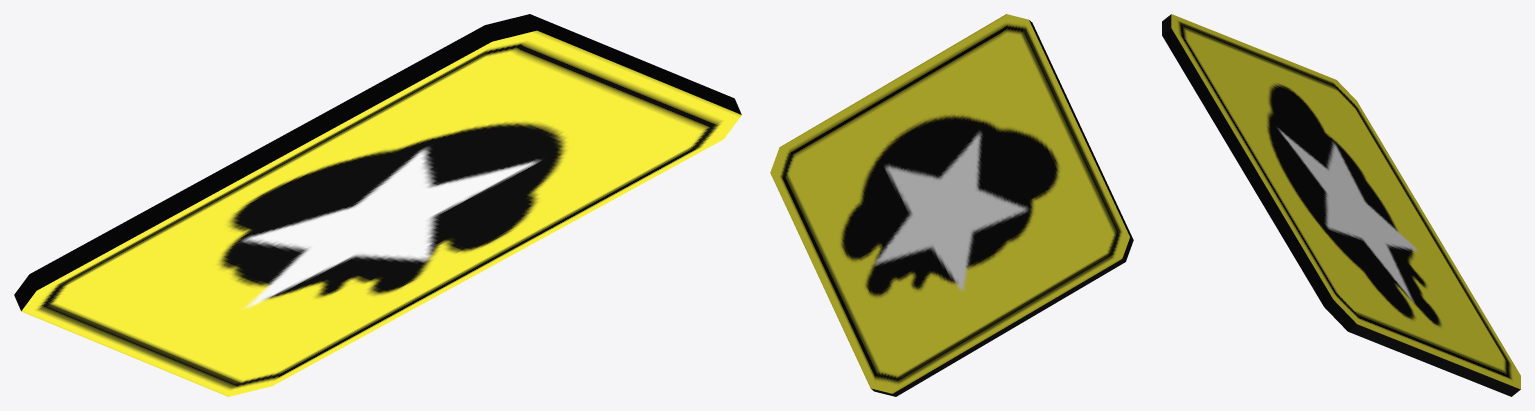
Rendered from thps5.ico.obj.
3 views of the same model, side by side, from view 1: azimuth 30°, elevation 25°; view 2: azimuth 150°, elevation 25°; view 3: azimuth 270°, elevation 25° (orthographic). The views are drawn at different scales.
Size of the model in its own units: 4.75 by 3.64 by 3.22.
Materials: 1 (1 with a texture image).
